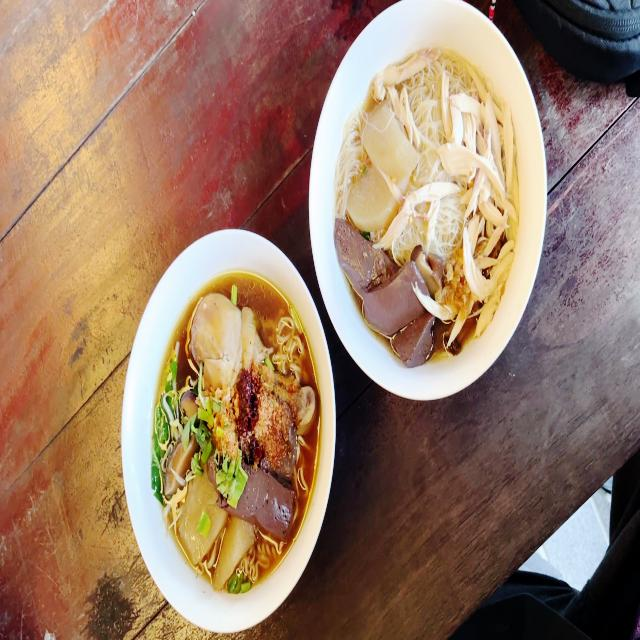boiled_chicken_blood_jelly: (336, 216, 399, 292), (242, 464, 292, 540), (372, 268, 418, 342), (401, 314, 433, 356), (283, 414, 296, 483)
chicken_drumstick: (191, 298, 316, 426)
chicken_shredded: (453, 61, 512, 312), (375, 187, 460, 252), (445, 138, 509, 198), (378, 44, 441, 96), (478, 244, 512, 331), (468, 124, 496, 221), (461, 233, 490, 306), (450, 288, 480, 342), (441, 78, 455, 136), (428, 191, 436, 259)
daikon_radish: (364, 103, 414, 195), (184, 482, 226, 554), (348, 166, 393, 224), (218, 521, 248, 577)
noodle: (335, 41, 522, 374), (152, 276, 325, 568)
